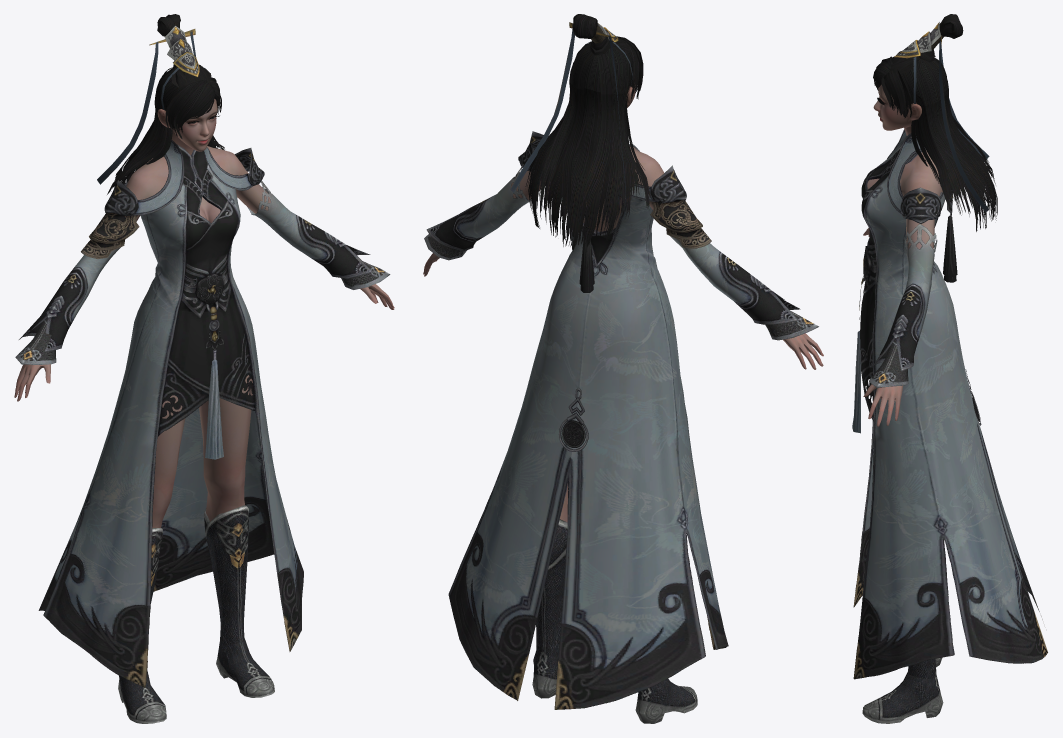
Rendered from aaa.obj.
3 views of the same model, side by side, from view 1: azimuth 30°, elevation 25°; view 2: azimuth 150°, elevation 25°; view 3: azimuth 270°, elevation 25° (orthographic). The views are drawn at different scales.
Parts seen in each view (by area): view 1: Tunic_Cloth, Model_Cloth1, Pants_Cloth, Pants_Body, Head_Hair_Cloth, Tunic_Body, Cuff, Head_Hair, Face, Head, Cuff_Body, Head_Cloth; view 2: Tunic_Cloth, Model_Cloth1, Head_Hair_Cloth, Pants_Cloth, Head_Hair, Cuff, Tunic_Body, Head_Cloth, Cuff_Body; view 3: Tunic_Cloth, Model_Cloth1, Head_Hair_Cloth, Pants_Cloth, Head_Hair, Tunic_Body, Head_Cloth, Cuff, Face, Cuff_Body, Head.
Boxes of the visible parts, bbox=[...] form: Tunic_Cloth: bbox=[38, 280, 303, 687]; Model_Cloth1: bbox=[19, 140, 372, 351]; Pants_Cloth: bbox=[118, 505, 274, 723]; Pants_Body: bbox=[152, 375, 252, 528]; Head_Hair_Cloth: bbox=[107, 77, 224, 194]; Tunic_Body: bbox=[126, 131, 270, 222]; Cuff: bbox=[15, 261, 390, 364]; Head_Hair: bbox=[154, 14, 214, 118]; Face: bbox=[157, 99, 217, 151]; Head: bbox=[149, 26, 205, 110]; Cuff_Body: bbox=[14, 284, 394, 401]; Head_Cloth: bbox=[97, 35, 196, 184]; Tunic_Cloth: bbox=[448, 200, 728, 709]; Model_Cloth1: bbox=[426, 131, 800, 324]; Head_Hair_Cloth: bbox=[525, 36, 650, 251]; Pants_Cloth: bbox=[532, 519, 697, 723]; Head_Hair: bbox=[569, 14, 634, 94]; Cuff: bbox=[424, 234, 818, 340]; Tunic_Body: bbox=[510, 146, 663, 231]; Head_Cloth: bbox=[510, 29, 625, 218]; Cuff_Body: bbox=[423, 253, 823, 369]; Tunic_Cloth: bbox=[852, 187, 1047, 679]; Model_Cloth1: bbox=[861, 129, 945, 370]; Head_Hair_Cloth: bbox=[873, 56, 997, 231]; Pants_Cloth: bbox=[862, 539, 944, 723]; Head_Hair: bbox=[874, 14, 963, 106]; Tunic_Body: bbox=[867, 126, 942, 249]; Head_Cloth: bbox=[939, 41, 989, 212]; Cuff: bbox=[869, 339, 908, 387]; Face: bbox=[873, 84, 921, 130]; Cuff_Body: bbox=[863, 228, 902, 426]; Head: bbox=[894, 22, 943, 103].
Size of the model in its own units: 103 by 174 by 46.13.
9 materials, 9 textured.
